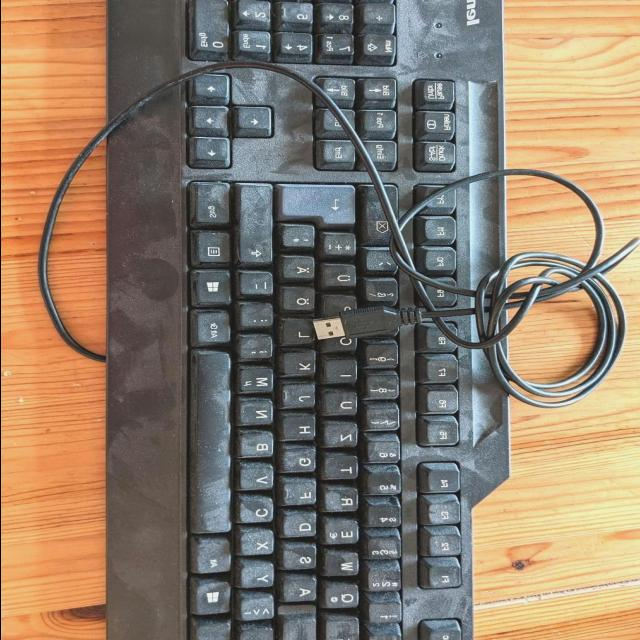1: (370, 604, 406, 627)
2: (368, 565, 404, 595)
3: (368, 538, 404, 562)
4: (368, 505, 404, 529)
5: (369, 472, 405, 498)
6: (368, 441, 404, 466)
7: (367, 407, 403, 433)
8: (366, 376, 402, 402)
9: (365, 344, 401, 370)
a: (284, 578, 320, 605)
accent: (367, 250, 400, 274)
ae: (283, 257, 319, 283)
alt-left: (196, 538, 234, 577)
altgr-right: (197, 313, 233, 347)
b: (242, 434, 278, 461)
c: (241, 498, 277, 527)
caret: (369, 633, 405, 640)
comma: (240, 336, 276, 362)
d: (284, 514, 320, 540)
del: (363, 187, 395, 246)
e: (325, 520, 363, 548)
enter: (282, 187, 360, 228)
f: (284, 481, 320, 507)
g: (284, 449, 320, 475)
h: (284, 417, 320, 443)
hash: (283, 227, 319, 251)
i: (326, 362, 360, 386)
j: (283, 385, 319, 411)
k: (284, 353, 320, 379)
keyboard: (167, 0, 501, 640)
l: (283, 321, 317, 347)
less: (241, 596, 277, 624)
m: (241, 368, 277, 396)
minus: (242, 274, 276, 298)
n: (241, 400, 277, 428)
o: (322, 337, 358, 354)
oe: (283, 289, 319, 315)
plus: (324, 235, 360, 259)
point: (242, 304, 276, 330)
q: (325, 584, 363, 612)
r: (326, 489, 362, 515)
s: (284, 547, 320, 573)
shift-left: (240, 629, 276, 640)
shift-lock: (282, 611, 320, 640)
shift-right: (241, 185, 277, 267)
space: (192, 352, 236, 538)
ss: (365, 279, 401, 305)
strg-left: (196, 623, 234, 640)
strg-right: (195, 182, 233, 229)
t: (325, 457, 362, 483)
tab: (326, 618, 363, 640)
u: (324, 393, 360, 418)
ue: (323, 266, 360, 291)
v: (241, 464, 277, 493)
w: (326, 553, 363, 579)
x: (242, 530, 278, 558)
y: (242, 563, 278, 591)
z: (325, 424, 361, 451)
